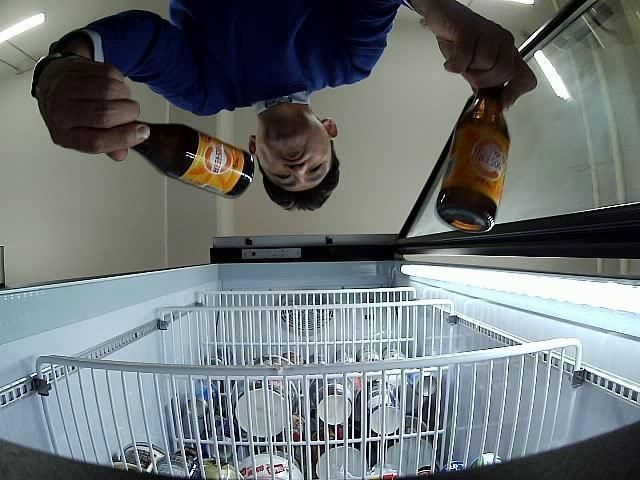17_vita500: (436, 86, 512, 233), (130, 119, 256, 200)
